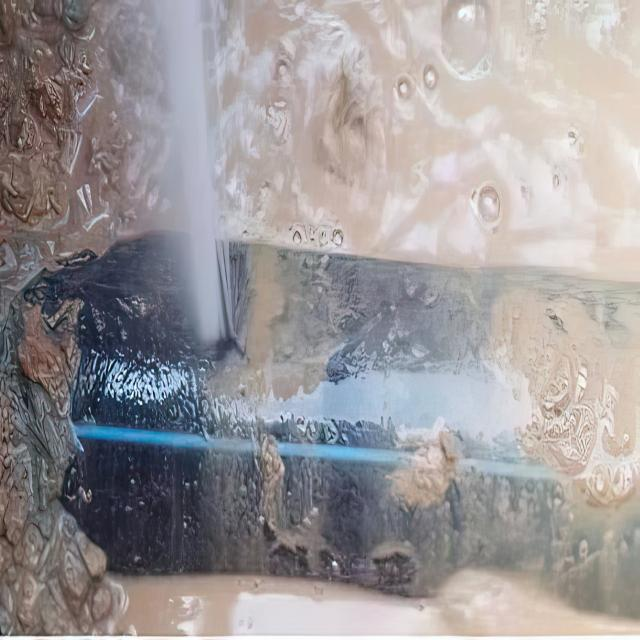leak: (162, 0, 235, 342)
